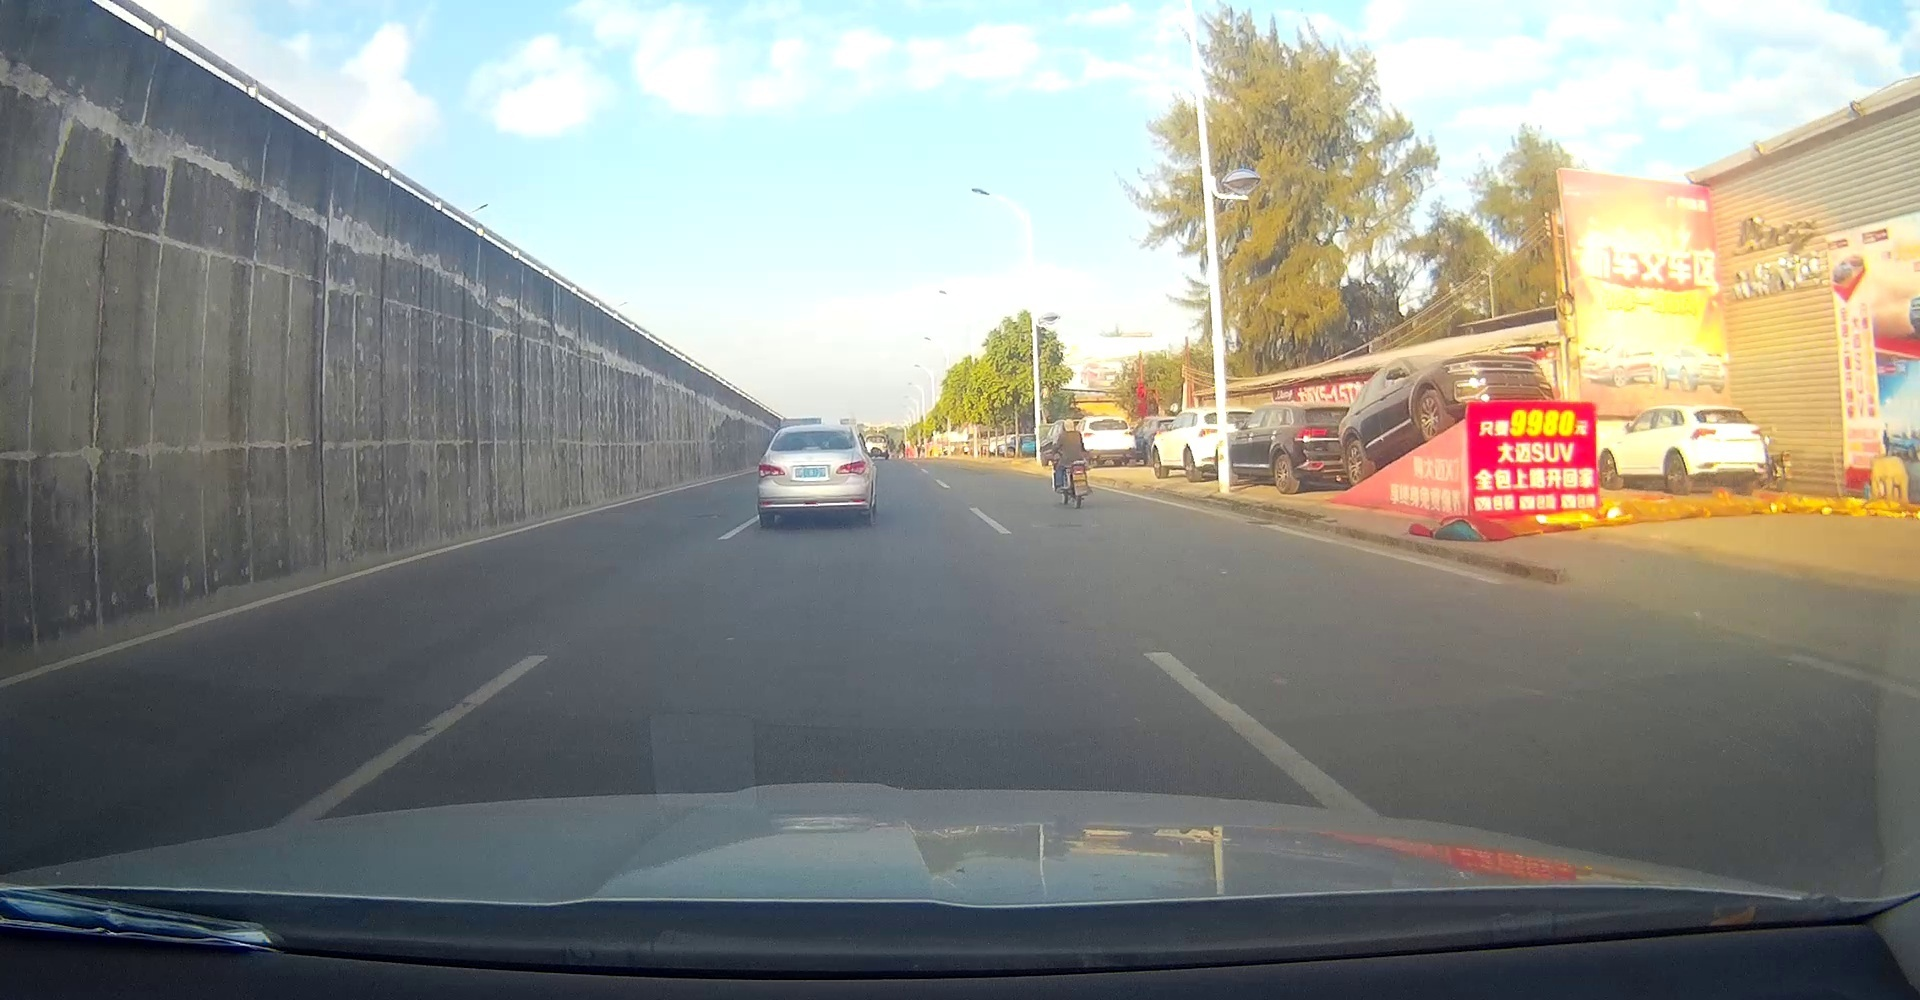L_light: (757, 463, 786, 477), (1689, 428, 1716, 440), (1082, 431, 1095, 437)
R_light: (836, 461, 866, 476), (1751, 429, 1763, 438), (1124, 431, 1134, 435)
T_light: (803, 445, 820, 451), (1717, 409, 1730, 412), (1102, 418, 1112, 421)
day-no: (757, 425, 869, 525), (1688, 405, 1766, 496), (1082, 416, 1137, 467)
